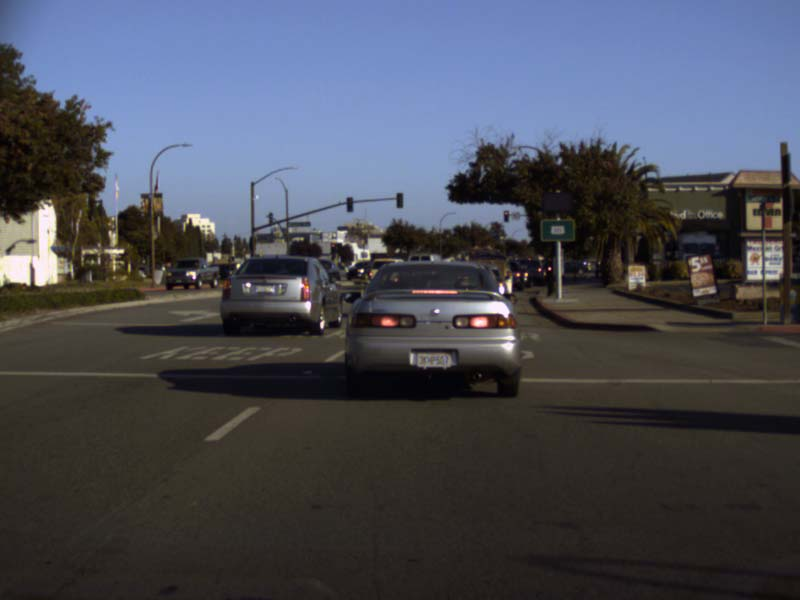Red: (503, 210, 508, 222)
